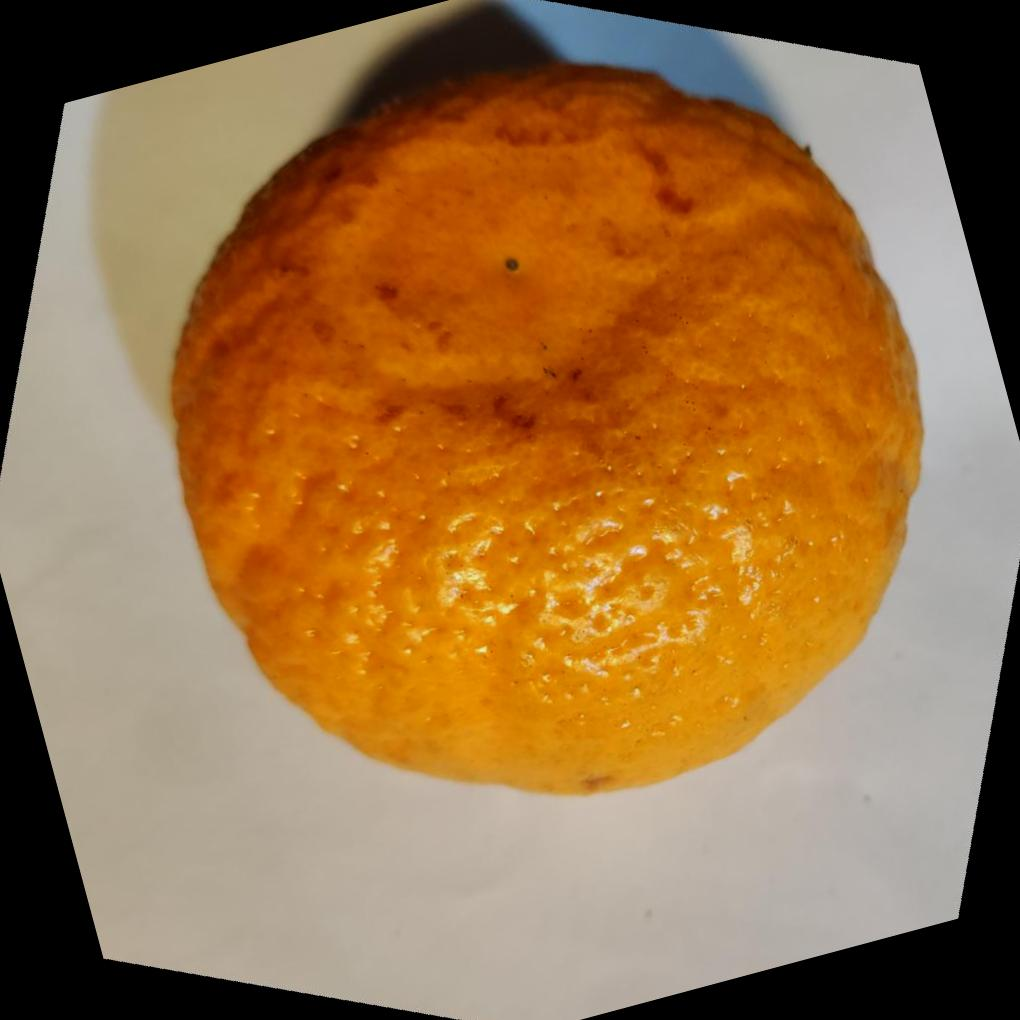FreshGuava: (165, 51, 926, 795)
